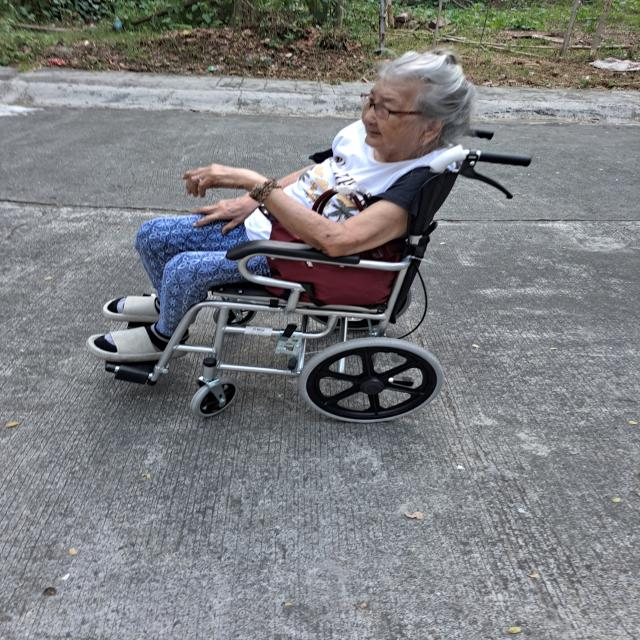wheelchairs: (103, 128, 534, 423)
